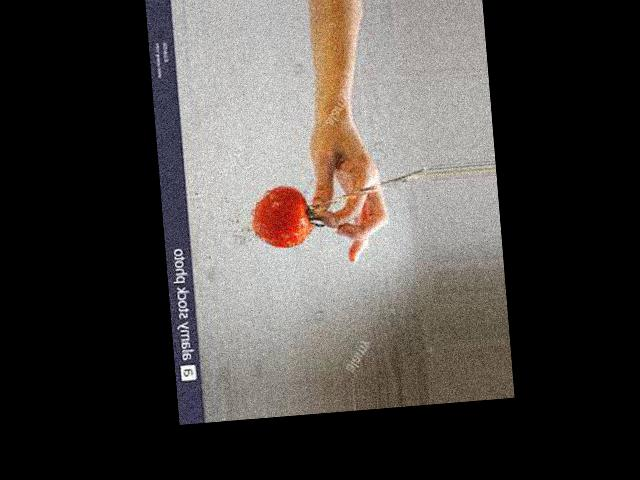tomato: (248, 182, 312, 248)
